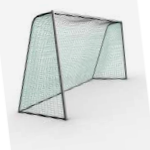goals: (16, 8, 128, 122)
